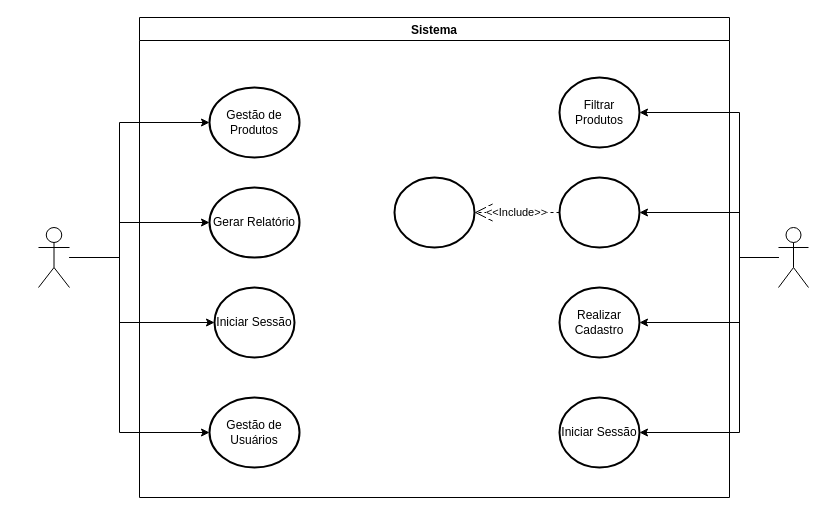
Image size: 829x515. Some labels were removed from this diagram. Here are the shapes that lost their labels. From the top down, the box of each, then its label:
(393, 176, 475, 248): Baixa de estoque
(558, 176, 640, 248): Realizar compra
(38, 226, 70, 288): Administrador
(778, 226, 808, 288): Cliente
